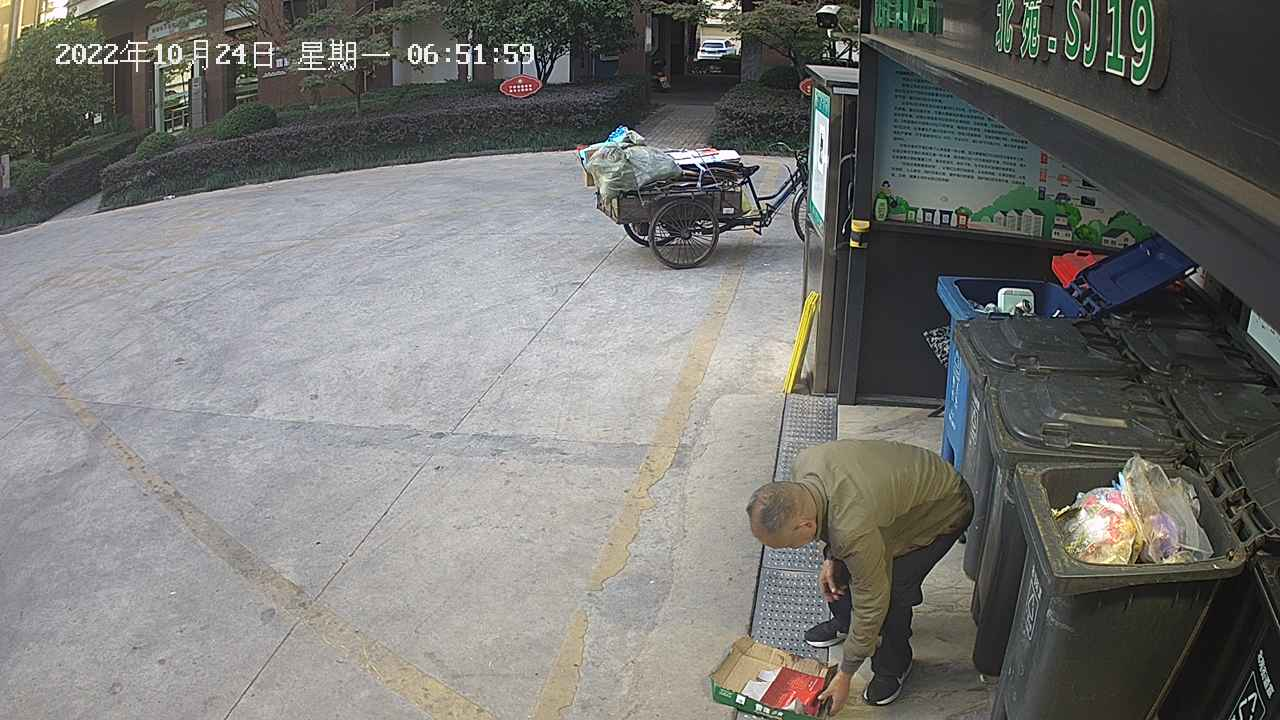person: (741, 433, 984, 720)
zhizhipin: (706, 630, 844, 720)
